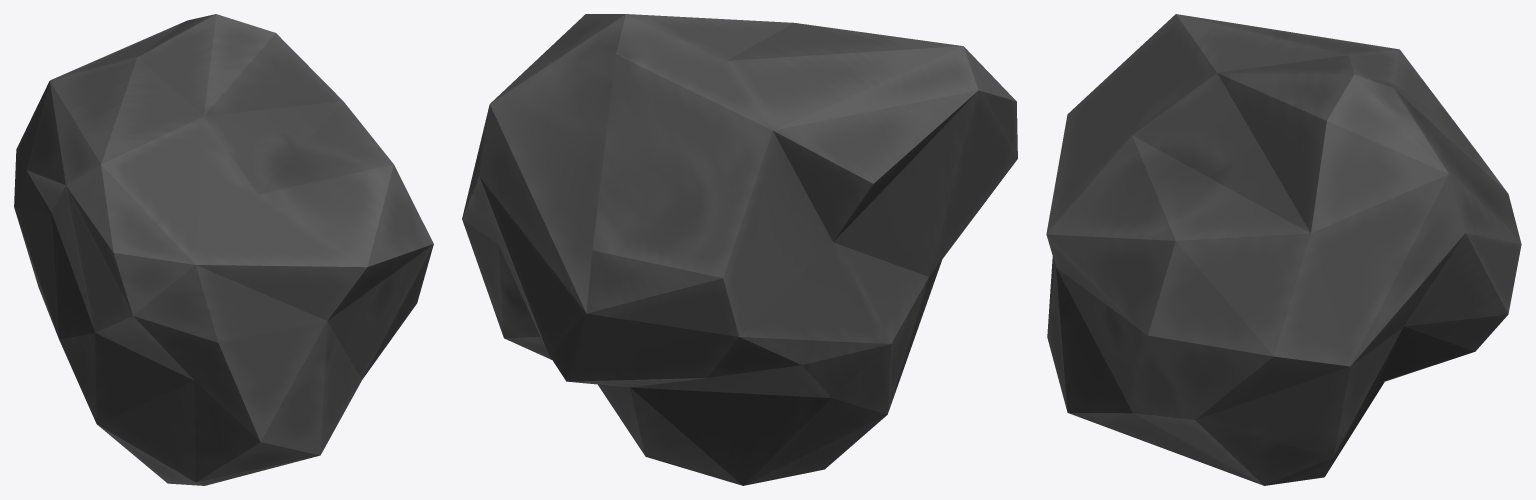
File: asteroid5.glb
3 renders of one model, left to right at view 1: azimuth 30°, elevation 25°; view 2: azimuth 150°, elevation 25°; view 3: azimuth 270°, elevation 25°, orthographic. The views are drawn at different scales.
Parts seen in each view (by area): view 1: Asteroids_Mesh.005; view 2: Asteroids_Mesh.005; view 3: Asteroids_Mesh.005.
Boxes of the visible parts, x1,y1,x2,y2 form: Asteroids_Mesh.005: [14, 14, 433, 485]; Asteroids_Mesh.005: [462, 14, 1017, 485]; Asteroids_Mesh.005: [1046, 14, 1521, 485].
Bounding box in the file's own units: 0.9123 × 0.9481 × 0.9525.
1 material, 1 textured.
